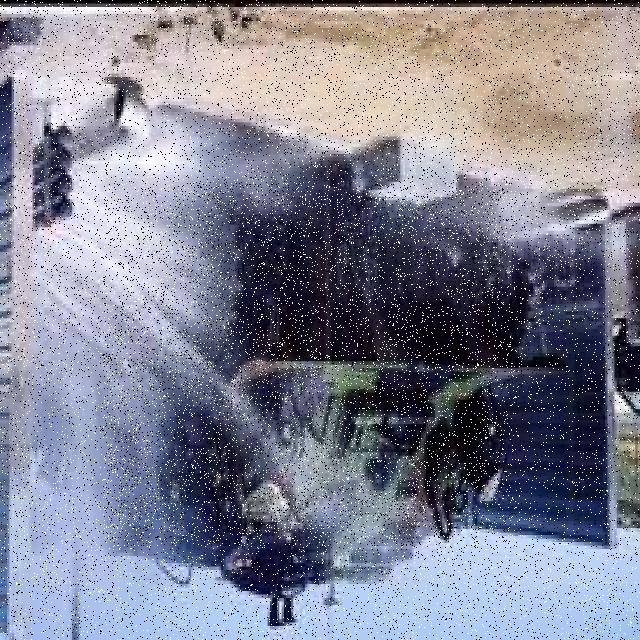MIL_MBT: (104, 183, 517, 545)
